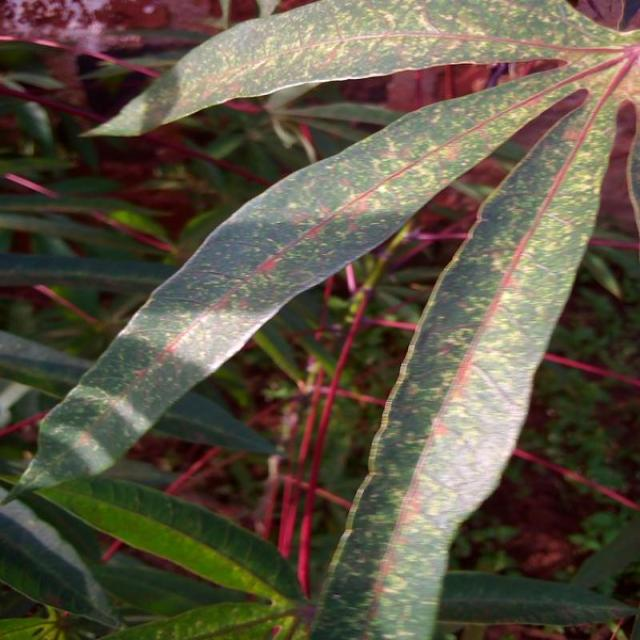cassava leaf: (7, 1, 638, 637)
